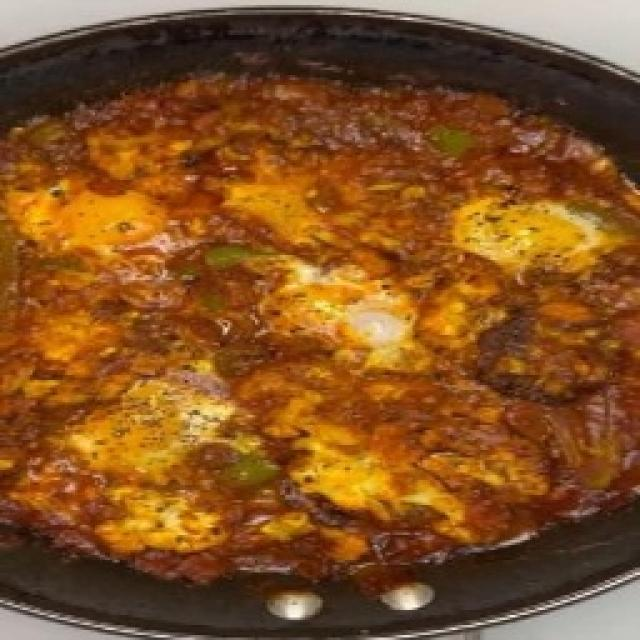Chakchouka: (0, 76, 640, 581)
